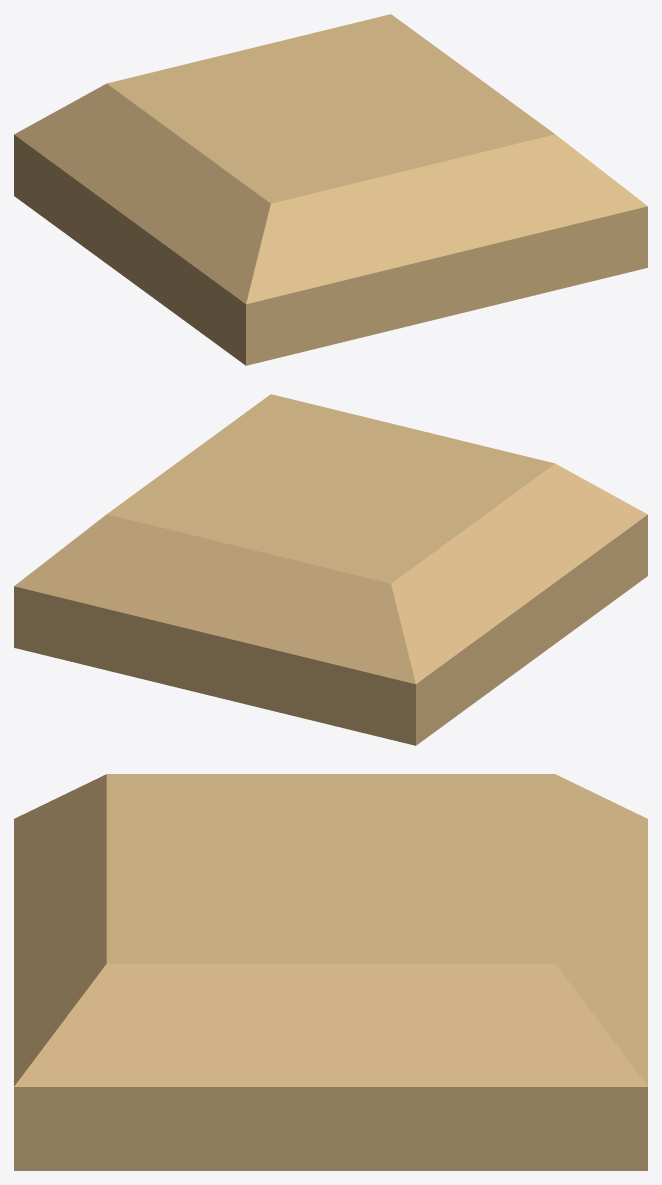
File: sm_Pillar2.fbx
3 renders of one model, top to bottom at view 1: azimuth 30°, elevation 25°; view 2: azimuth 150°, elevation 25°; view 3: azimuth 270°, elevation 25°, orthographic. The views are drawn at different scales.
Visible parts, largest first — view 1: pasted__pasted__polySurface6; view 2: pasted__pasted__polySurface6; view 3: pasted__pasted__polySurface6.
Boxes of the visible parts, box(x1,y1,x2,y2) form: pasted__pasted__polySurface6: box(14, 14, 647, 365); pasted__pasted__polySurface6: box(14, 394, 647, 745); pasted__pasted__polySurface6: box(14, 774, 647, 1170).
Size of the model in its own units: 0.9503 by 0.2779 by 0.9502.
Materials: 1 (1 with a texture image).
